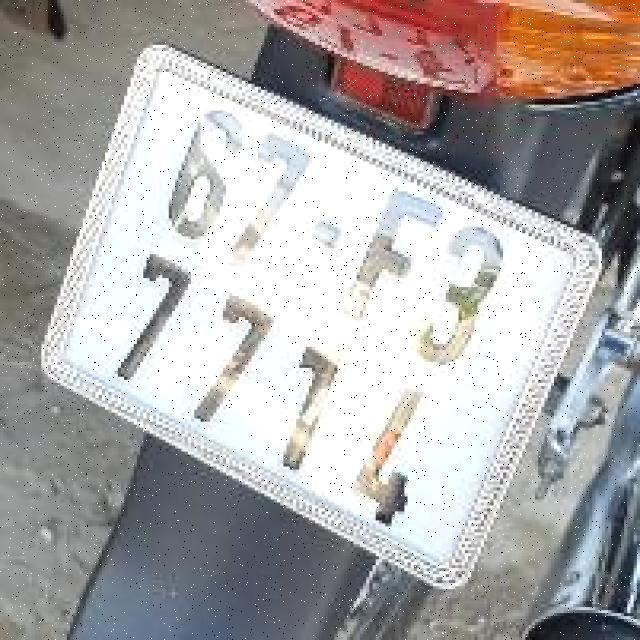1: (263, 324, 369, 486)
3: (399, 215, 536, 384)
4: (328, 368, 474, 540)
6: (152, 97, 259, 259)
7: (206, 120, 334, 290), (163, 280, 298, 438), (90, 241, 214, 398)
F: (332, 174, 461, 340)
